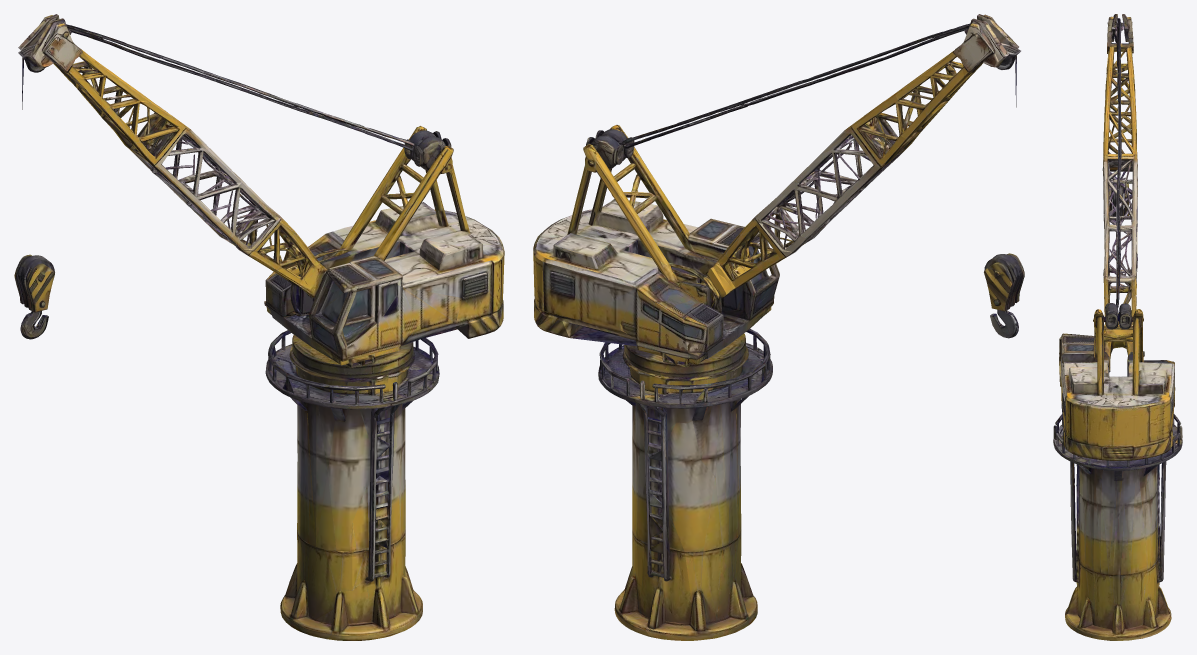
File: pedestal_crane.glb
3 views of the same model, side by side, from view 1: azimuth 30°, elevation 25°; view 2: azimuth 150°, elevation 25°; view 3: azimuth 270°, elevation 25° (orthographic). The views are drawn at different scales.
Size of the model in its own units: 1.41 by 1.9 by 0.4504.
1 material, 1 textured.
